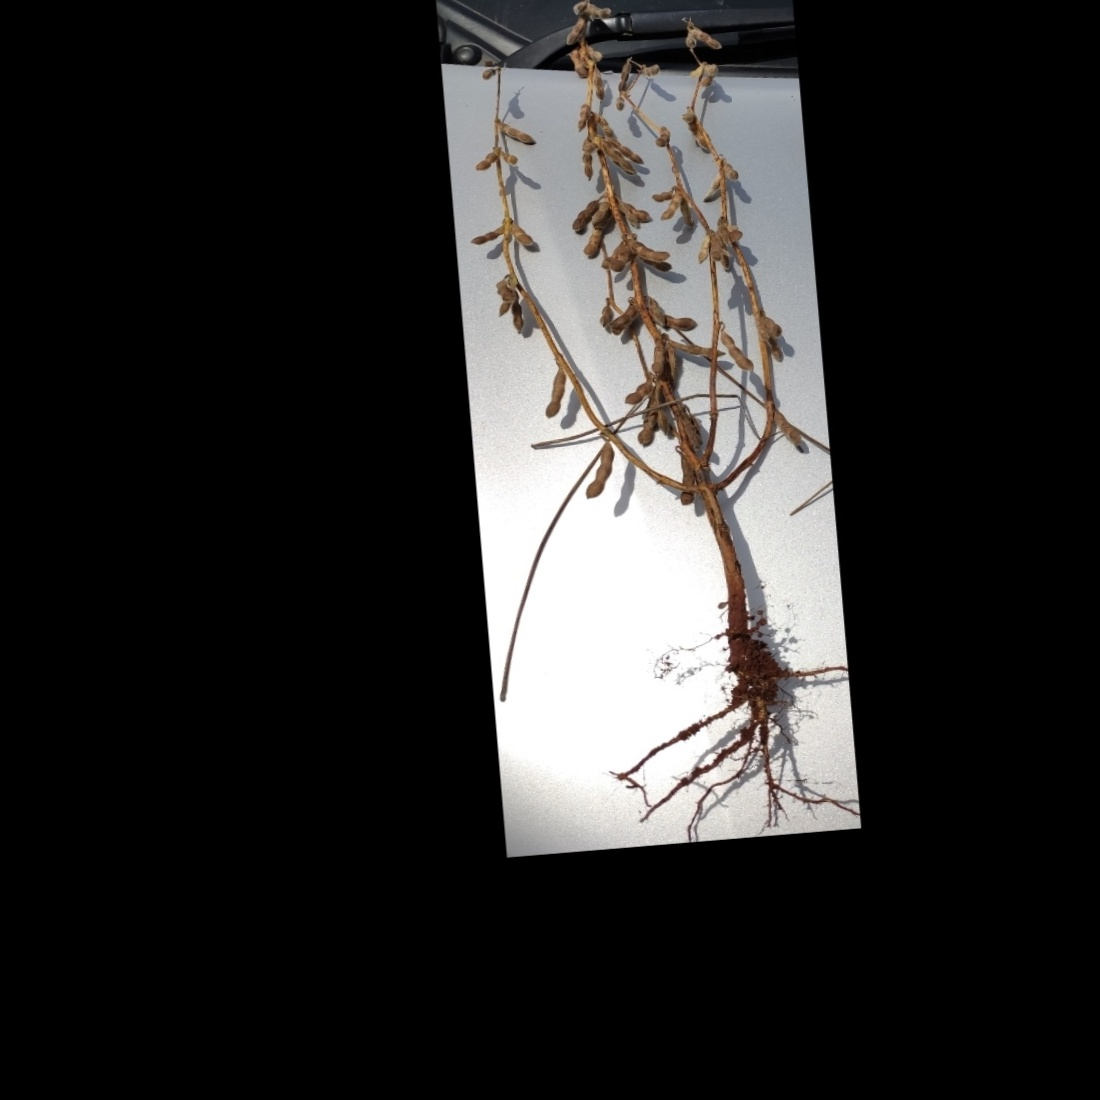pod: (577, 442, 620, 504), (535, 366, 571, 422), (718, 324, 757, 374), (498, 116, 542, 150), (566, 194, 604, 233), (773, 404, 805, 449), (602, 139, 638, 179), (621, 375, 660, 406), (606, 300, 645, 330), (463, 222, 507, 247), (655, 187, 685, 223), (467, 146, 500, 177), (561, 13, 590, 46), (690, 25, 724, 52), (591, 60, 613, 102), (760, 308, 789, 338), (612, 57, 635, 95)
soy: (441, 0, 835, 811)
